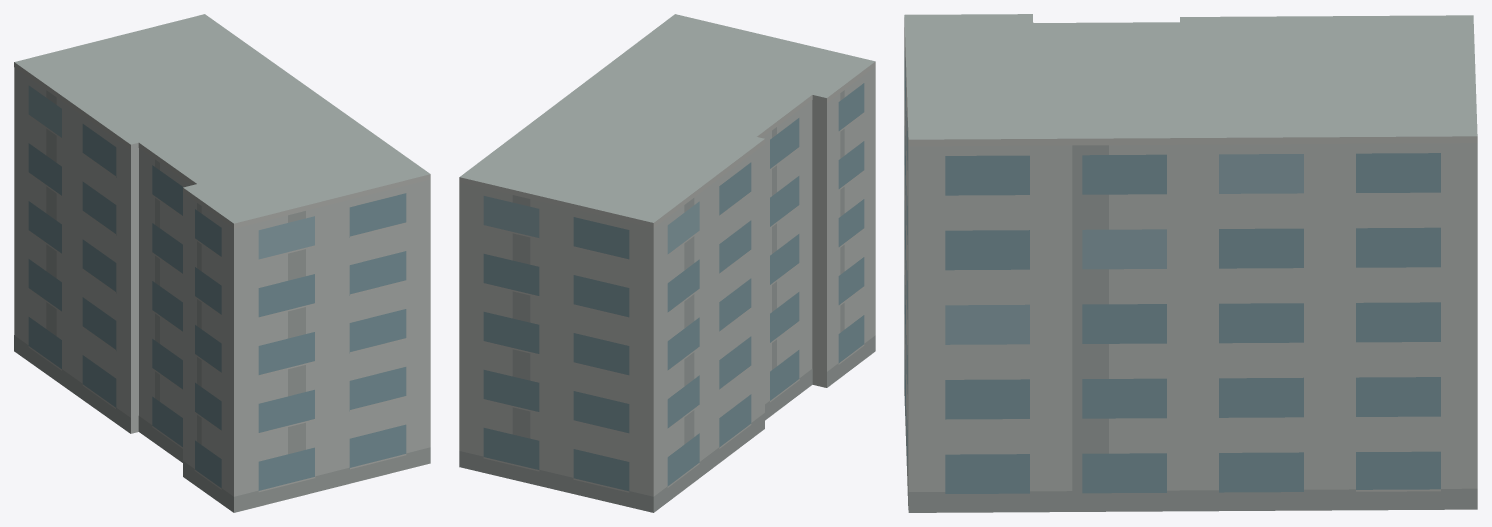
File: survey-upis-32790058.glb
The picture shows the model from 3 angles, left to right: view 1: azimuth 30°, elevation 25°; view 2: azimuth 150°, elevation 25°; view 3: azimuth 270°, elevation 25°; orthographic projection. The views are drawn at different scales.
Parts seen in each view (by area): view 1: survey-upis-32790058.tmp; view 2: survey-upis-32790058.tmp; view 3: survey-upis-32790058.tmp.
Part boxes in pixels (left/top/right/bottom): survey-upis-32790058.tmp: left=14, top=14, right=430, bottom=512; survey-upis-32790058.tmp: left=459, top=14, right=875, bottom=512; survey-upis-32790058.tmp: left=904, top=14, right=1477, bottom=512.
Bounding box in the file's own units: 9.76 × 13.5 × 18.8.
